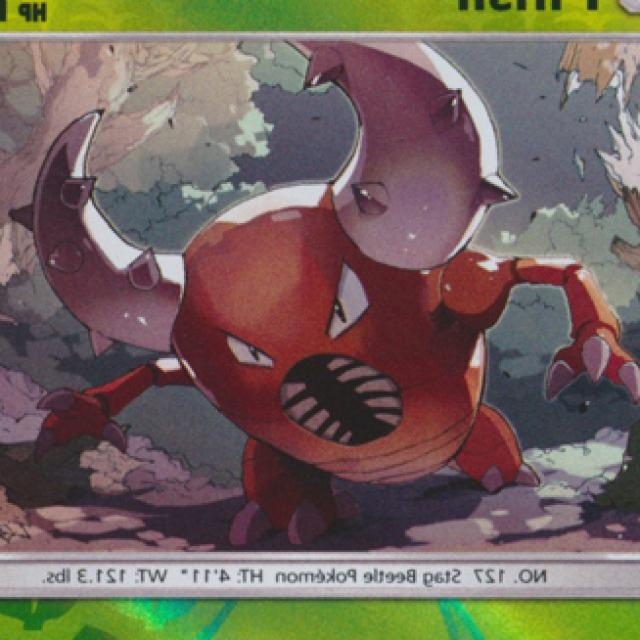Pinsir: (106, 34, 518, 549)
